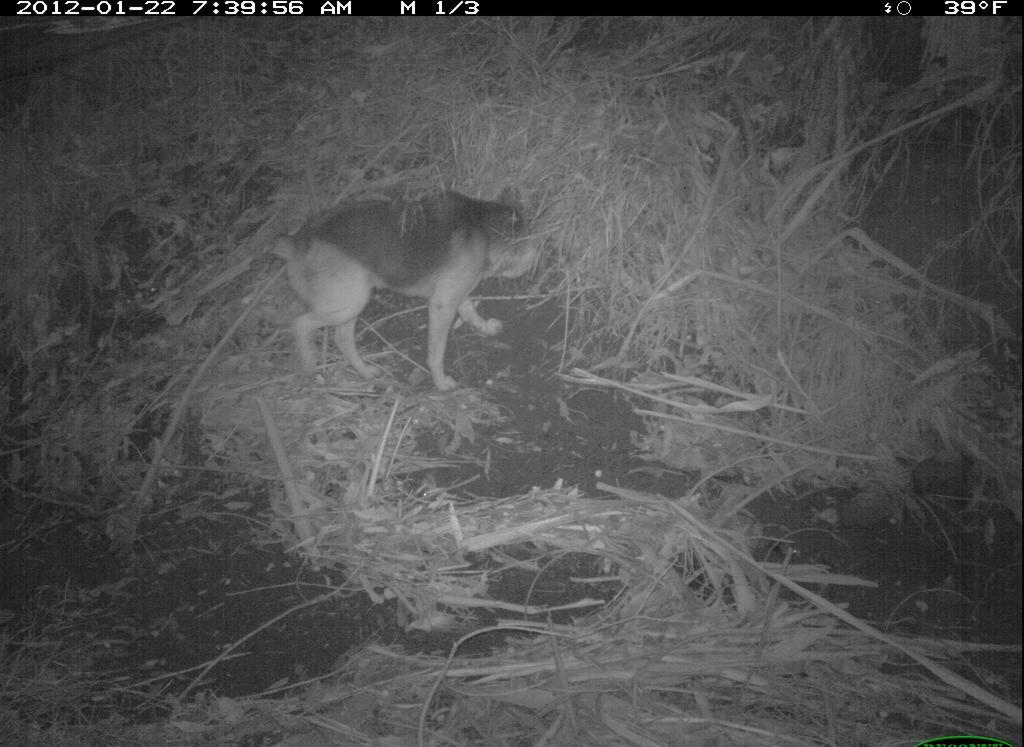dog: (262, 177, 555, 396)
